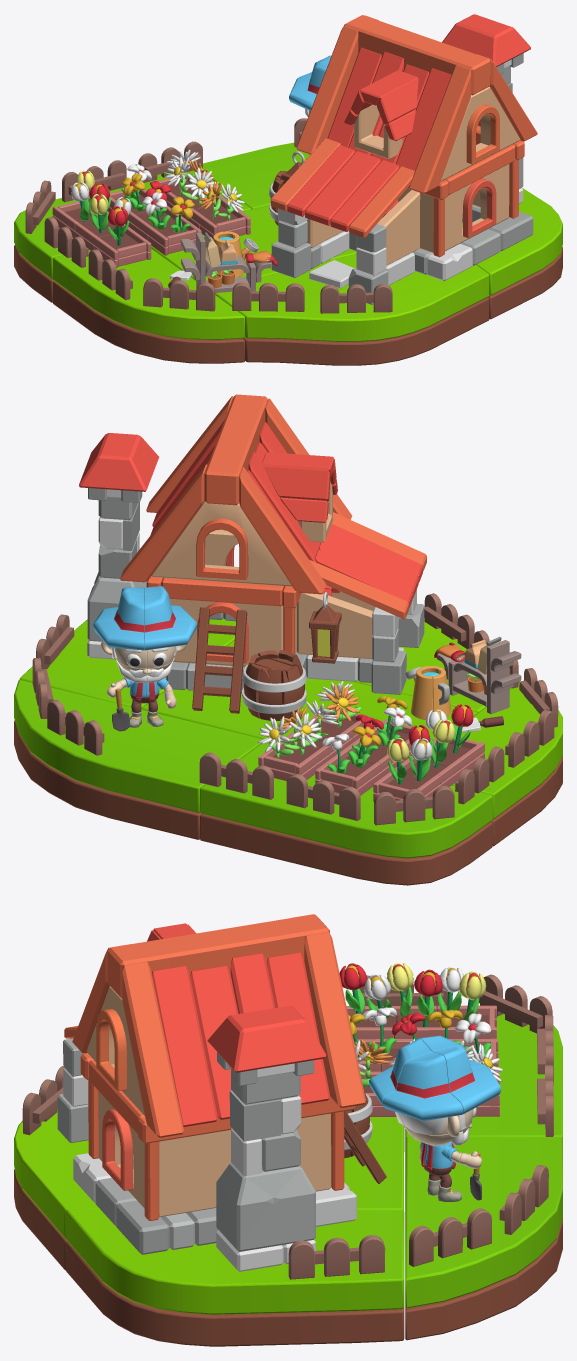
Rendered from Level_P_03.fbx.
3 renders of one model, top to bottom at view 1: azimuth 30°, elevation 25°; view 2: azimuth 150°, elevation 25°; view 3: azimuth 270°, elevation 25°, orthographic. The views are drawn at different scales.
Visible parts, largest first — view 1: Cube.006, Cube.007, Cube.008, Board_StoneHouse_16, Cube.014, Board_StoneHouse_19, Board_StoneHouse_6, Cube.005, Board_StoneHouse_13, Cube.003, Board_StoneHouse_48, Board_StoneHouse_8 (+47 smaller); view 2: Cube.003, Cube.002, Cube.012, Board_StoneHouse_51, Cube.011, Cube.004, Cube.007, Board_StoneHouse_19, Board_StoneHouse_16, Board_StoneHouse_6, Cube.005, Board_StoneHouse_5 (+52 smaller); view 3: Cube.005, Cube.003, Cube.009, Board_StoneHouse_38, Board_StoneHouse_55, Board_StoneHouse_33, Board_StoneHouse_6, Cube.002, Board_StoneHouse_50, Board_StoneHouse_49, Cube.006, Board_StoneHouse_47 (+47 smaller).
Part boxes in pixels (x1,y1,x2,y2): Cube.006: (215,254,489,341); Cube.007: (52,248,244,339); Cube.008: (243,297,489,365); Board_StoneHouse_16: (287,145,398,231); Cube.014: (52,281,244,363); Board_StoneHouse_19: (344,70,418,159); Board_StoneHouse_6: (344,15,490,95); Cube.005: (462,188,562,295); Board_StoneHouse_13: (440,86,520,181); Cube.003: (202,142,310,209); Board_StoneHouse_48: (409,65,470,193); Board_StoneHouse_8: (445,164,509,251); Cube.003: (14,680,262,812); Cube.002: (200,742,492,858); Cube.012: (200,814,492,885); Board_StoneHouse_51: (151,500,291,586); Cube.011: (14,720,201,839); Cube.004: (141,678,477,741); Cube.007: (452,682,562,818); Board_StoneHouse_19: (262,452,337,542); Board_StoneHouse_16: (314,524,422,608); Board_StoneHouse_6: (204,394,267,505); Cube.005: (19,618,235,707); Board_StoneHouse_5: (239,467,326,594); Cube.005: (65,1210,404,1314); Cube.003: (405,1137,562,1307); Cube.009: (65,1242,404,1346); Board_StoneHouse_38: (151,965,238,1126); Board_StoneHouse_55: (144,1111,344,1220); Board_StoneHouse_33: (216,1162,315,1251); Board_StoneHouse_6: (107,914,329,998); Cube.002: (405,1013,562,1138); Board_StoneHouse_50: (122,961,183,1137); Board_StoneHouse_49: (304,932,365,1107); Cube.006: (14,1109,100,1238); Board_StoneHouse_47: (207,1005,326,1072).
Bounding box in the file's own units: 29.53 × 15.94 × 24.48.
